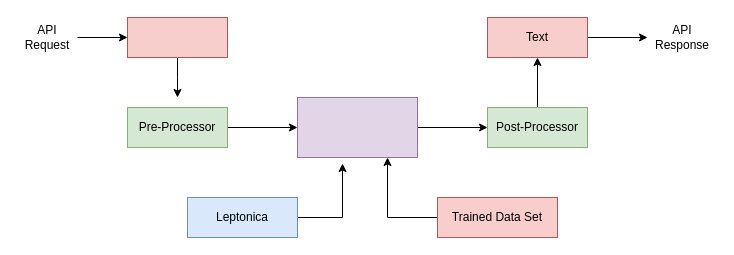
This 734x255 diagram has some shape labels left out. Here are the shapes that lost their labels. From the top down, the box of each, then its label:
(126, 16, 228, 58): Input Image
(296, 96, 418, 158): Tesseract-OCR Engine
